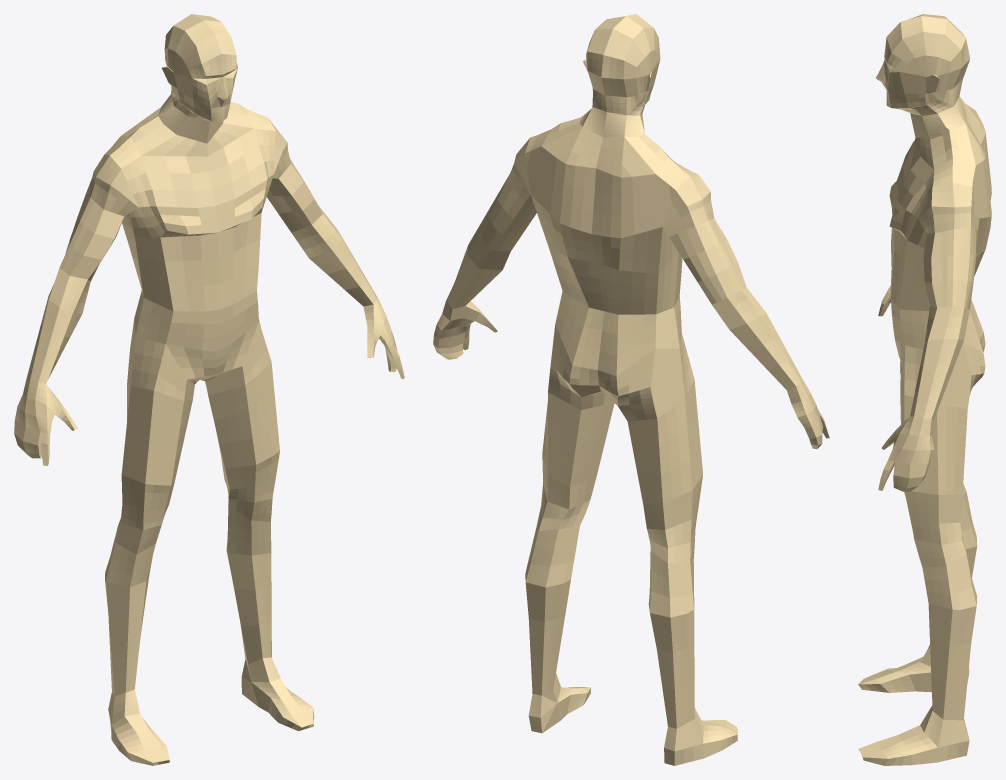
The model's file is mannequin.glb.
The picture shows the model from 3 angles, left to right: view 1: azimuth 30°, elevation 25°; view 2: azimuth 150°, elevation 25°; view 3: azimuth 270°, elevation 25°; orthographic projection.
Parts seen in each view (by area): view 1: Man (NonRig)_154; view 2: Man (NonRig)_154; view 3: Man (NonRig)_154.
Part boxes in pixels (x1,y1,x2,y2): Man (NonRig)_154: [14, 14, 404, 765]; Man (NonRig)_154: [433, 14, 829, 765]; Man (NonRig)_154: [858, 14, 991, 765].
Size of the model in its own units: 1.96 by 3.5 by 0.601.
